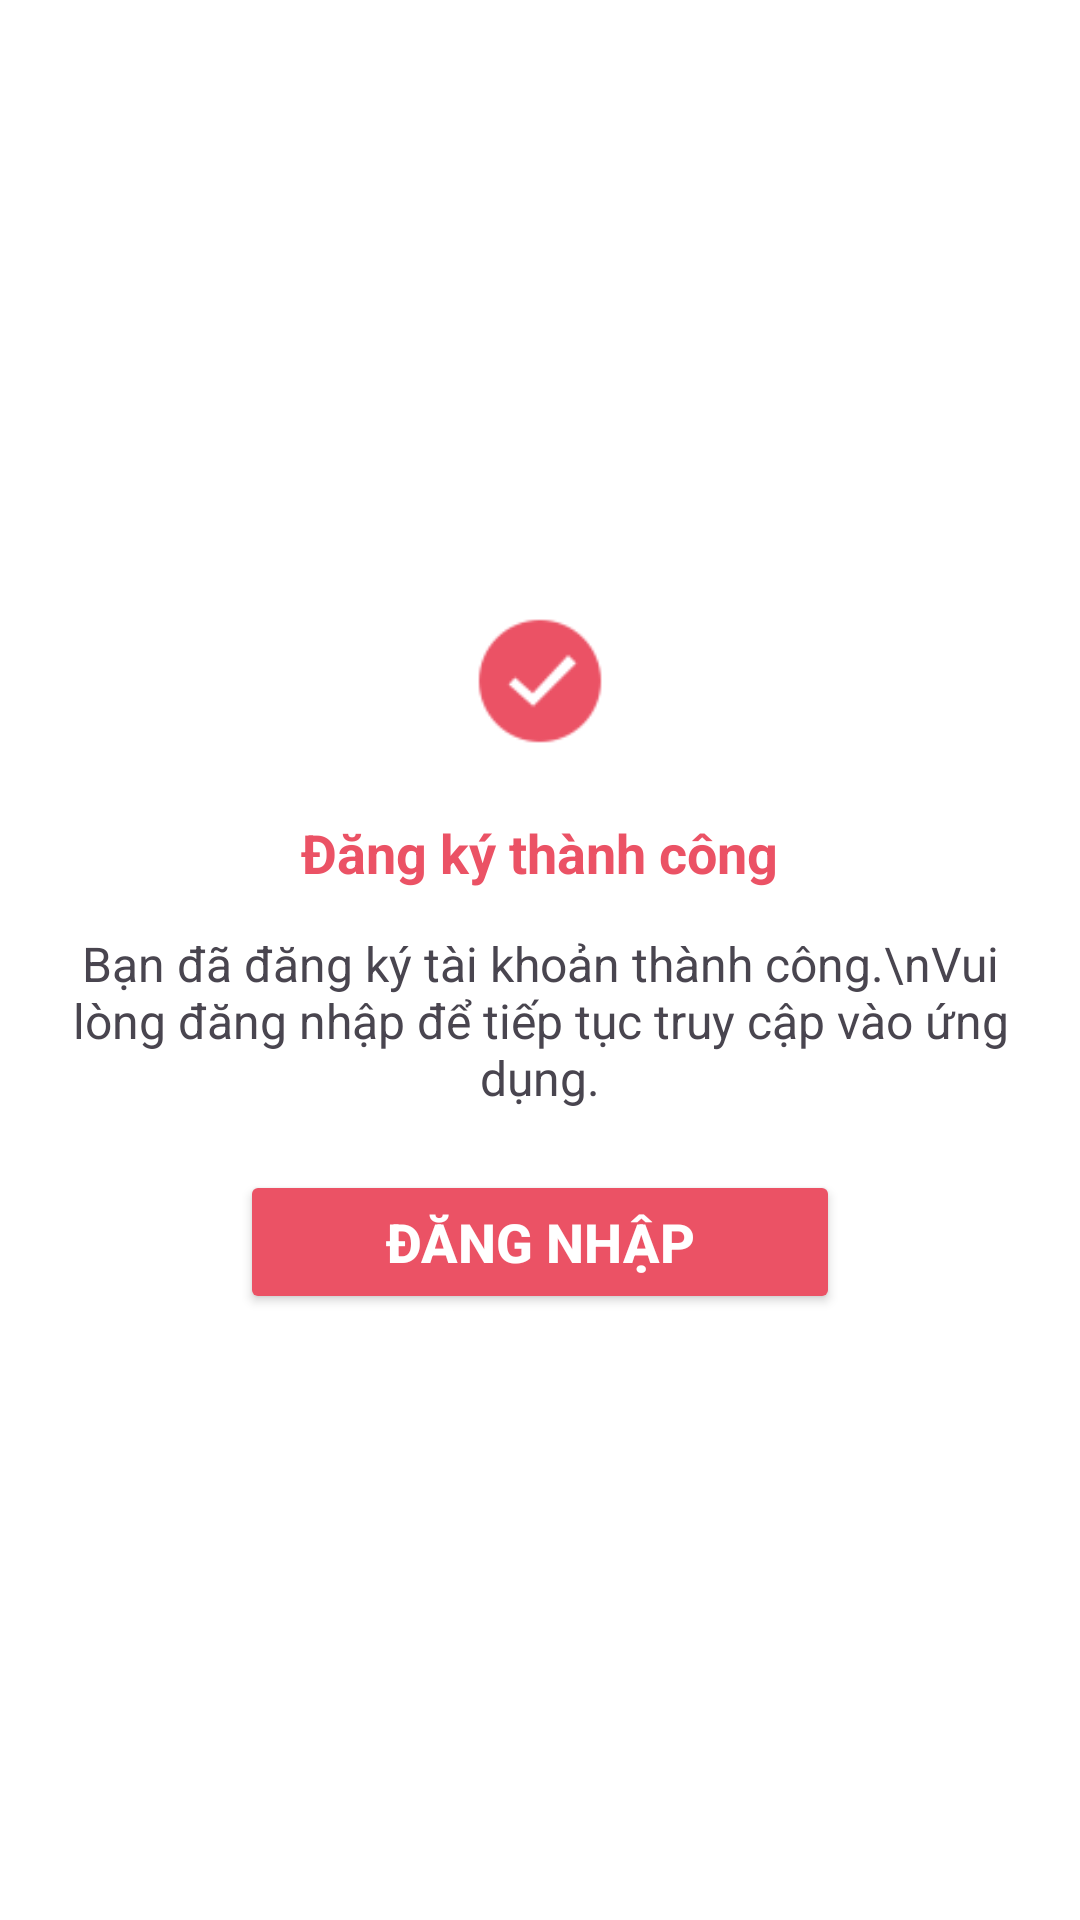

Locate icon controls on the screen. Image size 1080 × 1920, boxes as [x1=x1, y1=y1, x2=x2, y2=y2].
success: [x1=478, y1=619, x2=602, y2=743]
